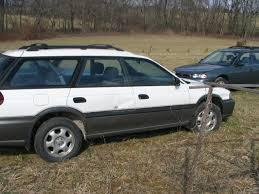doorouter-dent: (75, 86, 132, 127)
